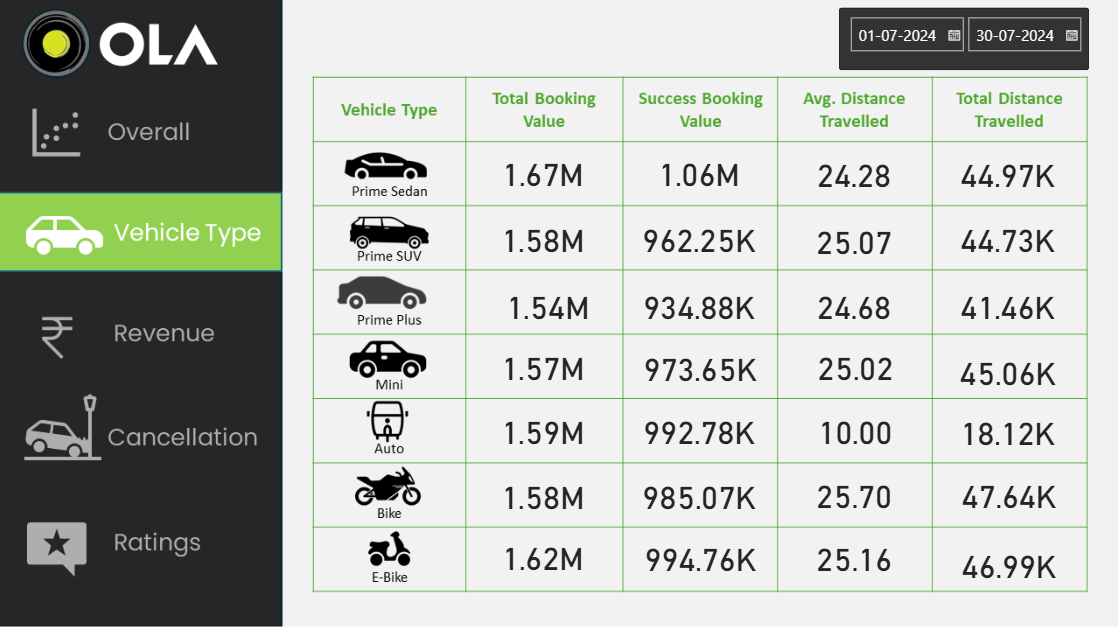

The page's visual inventory and layout, read from the dashboard file:
{"tool":"powerbi","page":{"name":"Vehicle Type","canvas":[1280,720],"ordinal":1},"visuals":[{"type":"actionButton","box":[0,340.2,324.5,90.5],"z":0},{"type":"actionButton","box":[0,447.6,324.5,90.5],"z":1000},{"type":"actionButton","box":[0,575.5,324.5,90.5],"z":2000},{"type":"actionButton","box":[0,106.2,324.5,90.5],"z":3000},{"type":"card","fields":{"Values":["Sum(Bookings.Booking_Value)"]},"box":[540.7,170.2,163.3,56.3],"z":4000},{"type":"card","fields":{"Values":["Sum(Bookings.Booking_Value)"]},"box":[540.7,245.6,163.3,56.3],"z":5000},{"type":"card","fields":{"Values":["Sum(Bookings.Booking_Value)"]},"box":[545.3,321.6,163.3,56.3],"z":6000},{"type":"card","fields":{"Values":["Sum(Bookings.Booking_Value)"]},"box":[540.7,391.1,163.3,56.3],"z":7000},{"type":"card","fields":{"Values":["Sum(Bookings.Booking_Value)"]},"box":[540.7,463.8,163.3,56.3],"z":8000},{"type":"card","fields":{"Values":["Sum(Bookings.Booking_Value)"]},"box":[540.7,537.9,163.3,56.3],"z":9000},{"type":"card","fields":{"Values":["Sum(Bookings.Booking_Value)"]},"box":[540.7,609.3,163.3,56.3],"z":10000},{"type":"card","fields":{"Values":["Sum(Bookings.Booking_Value)"]},"box":[719,170.2,163.3,56.3],"z":11000},{"type":"card","fields":{"Values":["Sum(Bookings.Booking_Value)"]},"box":[719,245.6,163.3,56.3],"z":12000},{"type":"card","fields":{"Values":["Sum(Bookings.Booking_Value)"]},"box":[719,321.1,163.3,56.3],"z":13000},{"type":"card","fields":{"Values":["Sum(Bookings.Booking_Value)"]},"box":[720.4,392.5,163.3,56.3],"z":14000},{"type":"card","fields":{"Values":["Sum(Bookings.Booking_Value)"]},"box":[719,463.8,163.3,56.3],"z":15000},{"type":"card","fields":{"Values":["Sum(Bookings.Booking_Value)"]},"box":[719,537.9,163.3,56.3],"z":16000},{"type":"card","fields":{"Values":["Sum(Bookings.Booking_Value)"]},"box":[720.4,601,163.3,74.1],"z":17000},{"type":"card","fields":{"Values":["Avg(Bookings.Ride_Distance)"]},"box":[896.1,171.5,163.3,56.3],"z":18000},{"type":"card","fields":{"Values":["Avg(Bookings.Ride_Distance)"]},"box":[896.1,247,163.3,56.3],"z":19000},{"type":"card","fields":{"Values":["Avg(Bookings.Ride_Distance)"]},"box":[896.1,321.1,163.3,56.3],"z":20000},{"type":"card","fields":{"Values":["Avg(Bookings.Ride_Distance)"]},"box":[897.4,391.1,163.3,56.3],"z":21000},{"type":"card","fields":{"Values":["Avg(Bookings.Ride_Distance)"]},"box":[897.4,463.8,163.3,56.3],"z":22000},{"type":"card","fields":{"Values":["Avg(Bookings.Ride_Distance)"]},"box":[896.1,532.4,163.3,65.9],"z":23000},{"type":"card","fields":{"Values":["Avg(Bookings.Ride_Distance)"]},"box":[896.1,601,163.3,74.1],"z":24000},{"type":"card","fields":{"Values":["Sum(Bookings.Ride_Distance)"]},"box":[1071.7,171.5,163.3,56.3],"z":25000},{"type":"card","fields":{"Values":["Sum(Bookings.Ride_Distance)"]},"box":[1071.7,245.6,163.3,56.3],"z":26000},{"type":"card","fields":{"Values":["Sum(Bookings.Ride_Distance)"]},"box":[1071.7,321.1,163.3,56.3],"z":27000},{"type":"card","fields":{"Values":["Sum(Bookings.Ride_Distance)"]},"box":[1071.7,392.5,163.3,64.5],"z":28000},{"type":"card","fields":{"Values":["Sum(Bookings.Ride_Distance)"]},"box":[1071.7,465.2,163.3,56.3],"z":29000},{"type":"card","fields":{"Values":["Sum(Bookings.Ride_Distance)"]},"box":[1073.1,532.4,163.3,65.9],"z":30000},{"type":"card","fields":{"Values":["Sum(Bookings.Ride_Distance)"]},"box":[1073.1,609.3,163.3,74.1],"z":31000},{"type":"slicer","title":"Date","fields":{"Values":["Bookings.Date"]},"box":[960.6,9.6,285.4,71.4],"z":32000}]}

Visuals, with their boxes in screenshot pixels (x1, y1, x2, y2), scaled from the page's 1280x720 canvas onto the 1118x627 screenshot:
actionButton: 0,296,283,375
actionButton: 0,390,283,469
actionButton: 0,501,283,580
actionButton: 0,92,283,171
card - Sum(Bookings.Booking_Value): 472,148,615,197
card - Sum(Bookings.Booking_Value): 472,214,615,263
card - Sum(Bookings.Booking_Value): 476,280,619,329
card - Sum(Bookings.Booking_Value): 472,341,615,390
card - Sum(Bookings.Booking_Value): 472,404,615,453
card - Sum(Bookings.Booking_Value): 472,468,615,517
card - Sum(Bookings.Booking_Value): 472,531,615,580
card - Sum(Bookings.Booking_Value): 628,148,771,197
card - Sum(Bookings.Booking_Value): 628,214,771,263
card - Sum(Bookings.Booking_Value): 628,280,771,329
card - Sum(Bookings.Booking_Value): 629,342,772,391
card - Sum(Bookings.Booking_Value): 628,404,771,453
card - Sum(Bookings.Booking_Value): 628,468,771,517
card - Sum(Bookings.Booking_Value): 629,523,772,588
card - Avg(Bookings.Ride_Distance): 783,149,925,198
card - Avg(Bookings.Ride_Distance): 783,215,925,264
card - Avg(Bookings.Ride_Distance): 783,280,925,329
card - Avg(Bookings.Ride_Distance): 784,341,926,390
card - Avg(Bookings.Ride_Distance): 784,404,926,453
card - Avg(Bookings.Ride_Distance): 783,464,925,521
card - Avg(Bookings.Ride_Distance): 783,523,925,588
card - Sum(Bookings.Ride_Distance): 936,149,1079,198
card - Sum(Bookings.Ride_Distance): 936,214,1079,263
card - Sum(Bookings.Ride_Distance): 936,280,1079,329
card - Sum(Bookings.Ride_Distance): 936,342,1079,398
card - Sum(Bookings.Ride_Distance): 936,405,1079,454
card - Sum(Bookings.Ride_Distance): 937,464,1080,521
card - Sum(Bookings.Ride_Distance): 937,531,1080,595
"Date" slicer: 839,8,1088,71
